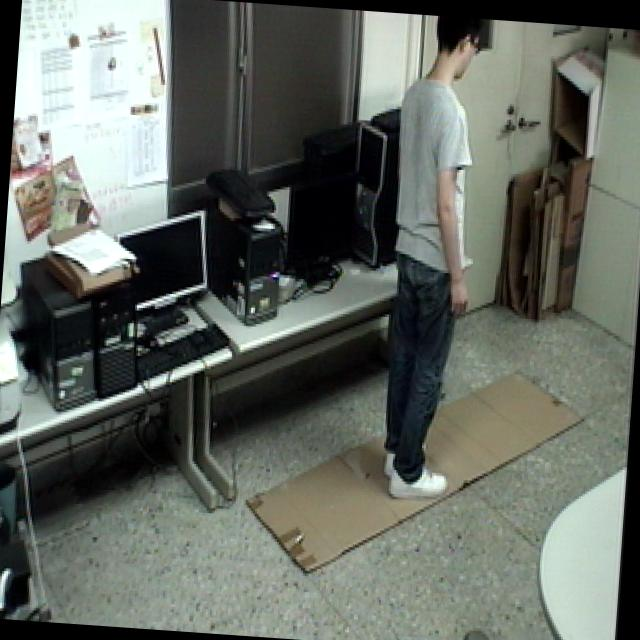stand: (364, 5, 493, 512)
